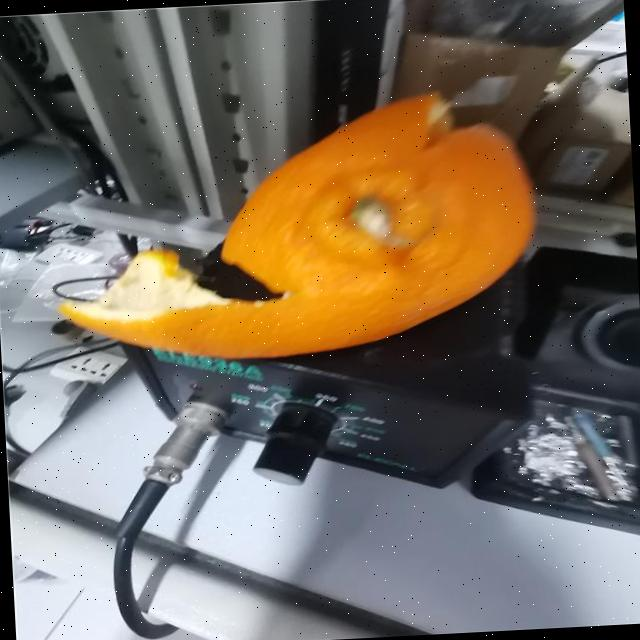orange-peel: (46, 84, 544, 370)
